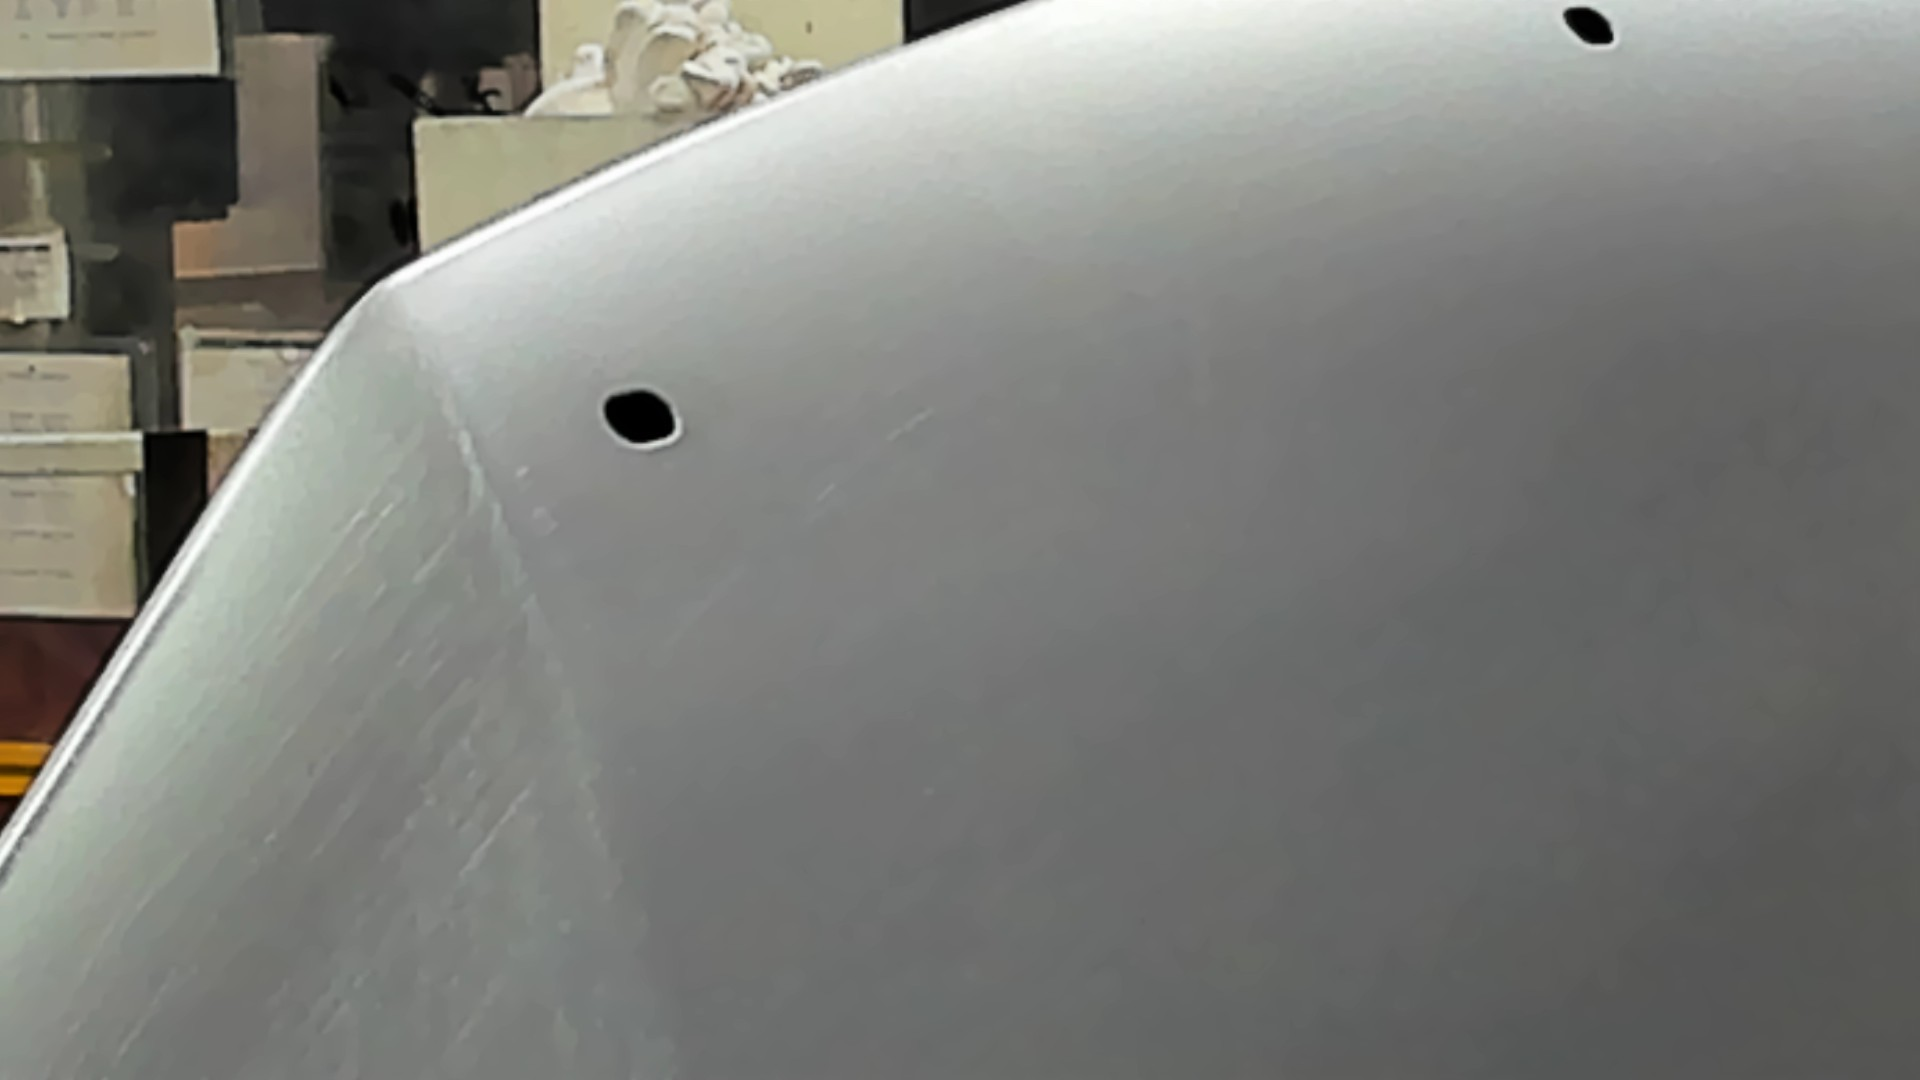amorfo: (595, 378, 691, 451), (1559, 4, 1619, 50)
capo: (810, 116, 1920, 1080)
